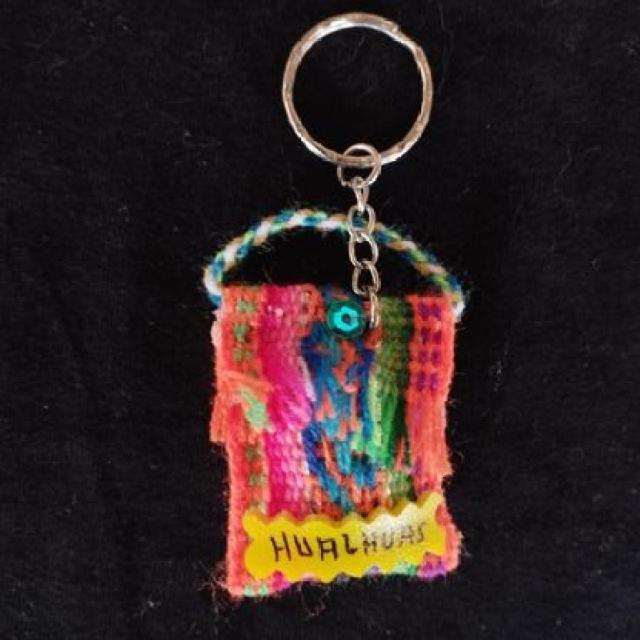Llavero: (202, 207, 468, 601)
